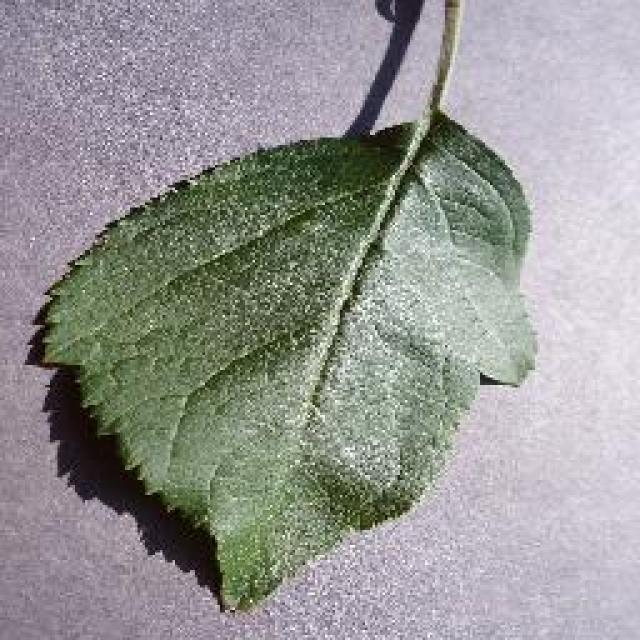apple healthy: (28, 0, 540, 615)
